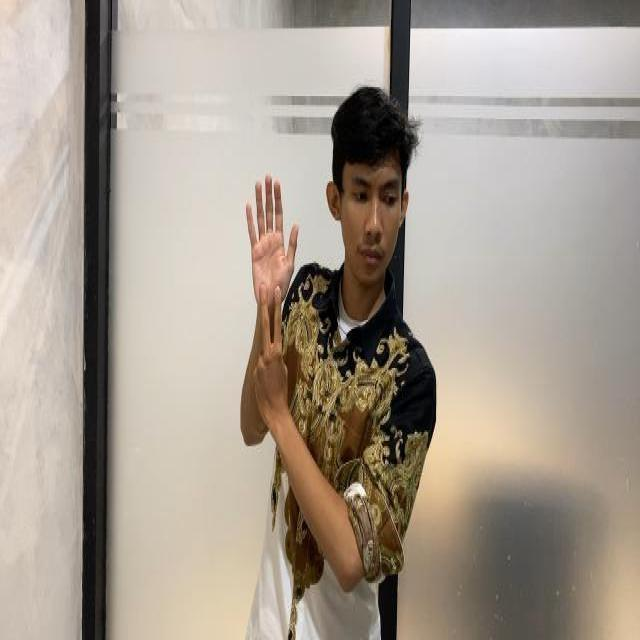N: (238, 172, 308, 362)
